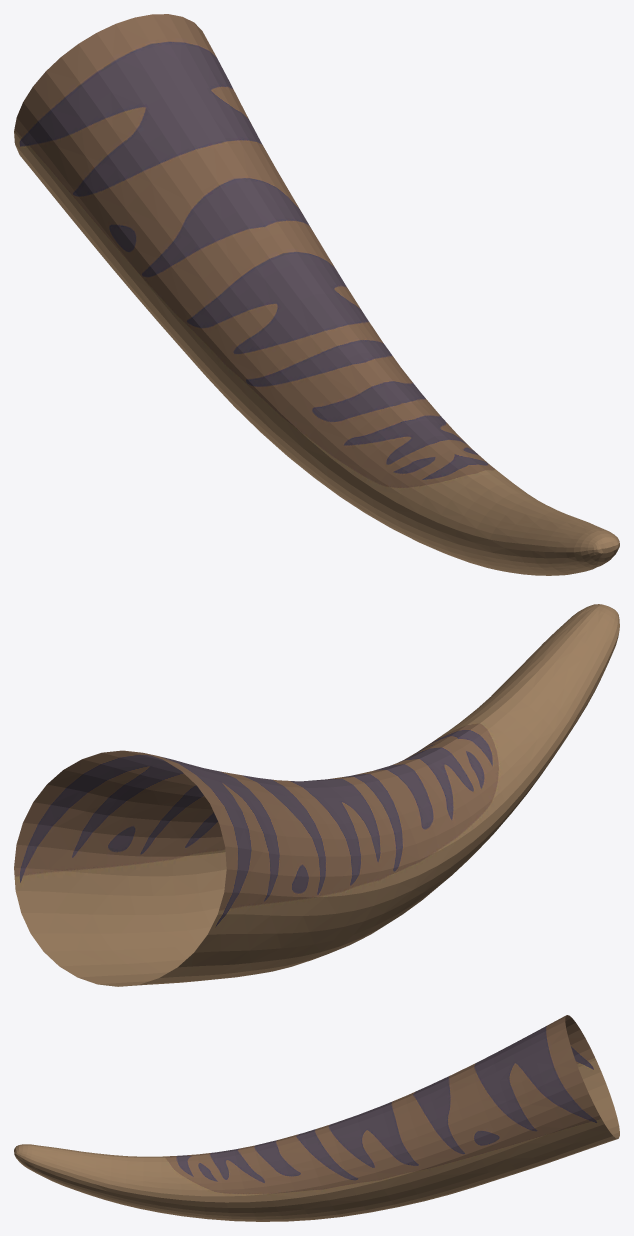
The model's file is Cola.obj.
3 views of the same model, one above another, from view 1: azimuth 30°, elevation 25°; view 2: azimuth 150°, elevation 25°; view 3: azimuth 270°, elevation 25° (orthographic). The views are drawn at different scales.
Parts seen in each view (by area): view 1: Cola_Cola_polySurface45polySurface44polySurface22Mesh; view 2: Cola_Cola_polySurface45polySurface44polySurface22Mesh; view 3: Cola_Cola_polySurface45polySurface44polySurface22Mesh.
Part boxes in pixels (x1=…): Cola_Cola_polySurface45polySurface44polySurface22Mesh: x1=14, y1=14, x2=619, y2=575; Cola_Cola_polySurface45polySurface44polySurface22Mesh: x1=14, y1=604, x2=619, y2=986; Cola_Cola_polySurface45polySurface44polySurface22Mesh: x1=14, y1=1015, x2=619, y2=1221.
Bounding box in the file's own units: 1.72 × 2.76 × 7.76.
Materials: 1 (1 with a texture image).
